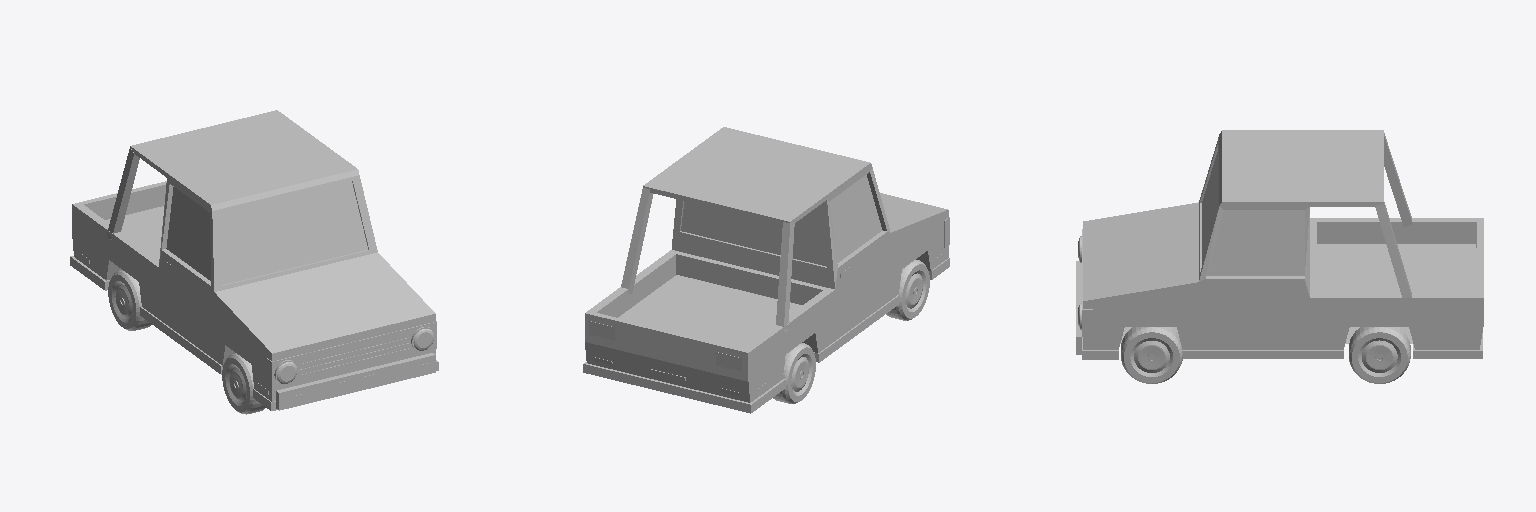
The model's file is Cartoon_Lowpoly_Car.obj.
3 views of the same model, side by side, from view 1: azimuth 30°, elevation 25°; view 2: azimuth 150°, elevation 25°; view 3: azimuth 270°, elevation 25° (orthographic).
Size of the model in its own units: 7.74 by 7.88 by 16.19.